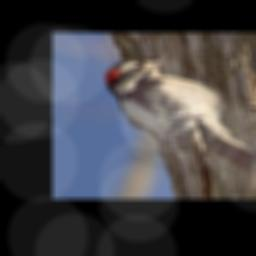Woodpecker: (102, 56, 255, 172)
